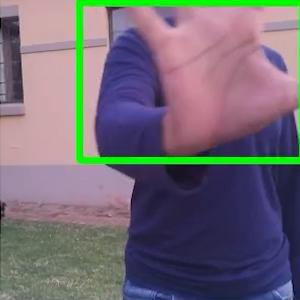follow_hand: (119, 0, 299, 162)
